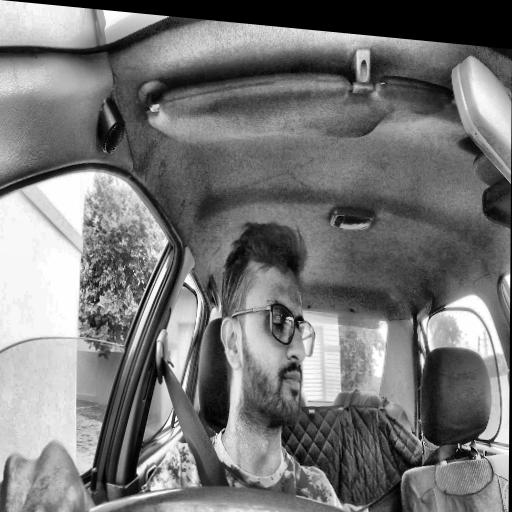drowsy: (219, 217, 316, 437)
